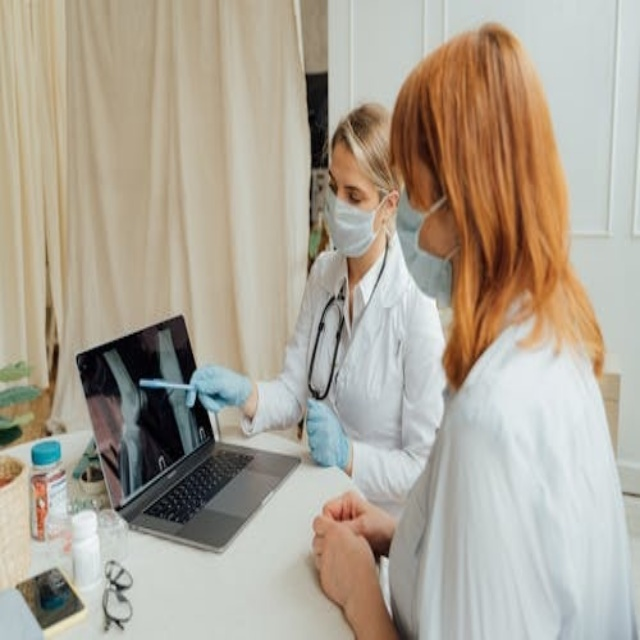Guantes: (307, 397, 350, 470), (190, 365, 253, 413)
Mascara: (395, 183, 455, 305), (324, 185, 389, 258)
Sin_gafas: (325, 163, 372, 208)
Sin_guantes: (311, 477, 390, 609)
